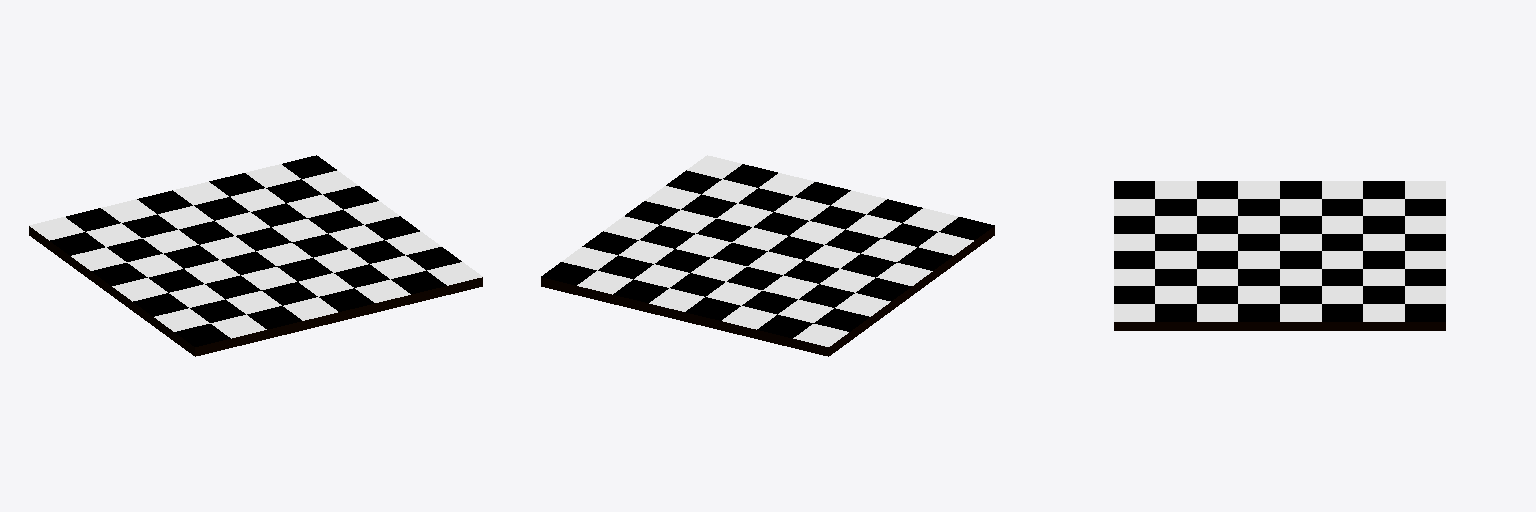
Rendered from board.obj.
The picture shows the model from 3 angles: view 1: azimuth 30°, elevation 25°; view 2: azimuth 150°, elevation 25°; view 3: azimuth 270°, elevation 25°; orthographic projection.
Parts seen in each view (by area): view 1: Cube; view 2: Cube; view 3: Cube.
Boxes of the visible parts, <box> form: Cube: <box>29,155,482,356</box>; Cube: <box>541,155,994,356</box>; Cube: <box>1114,181,1445,330</box>.
Bounding box in the file's own units: 16 × 0.5 × 16.